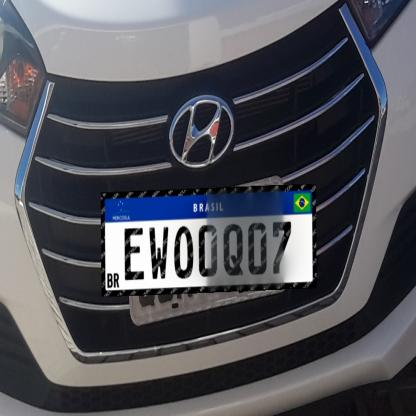PlacaM: (101, 184, 317, 296)
